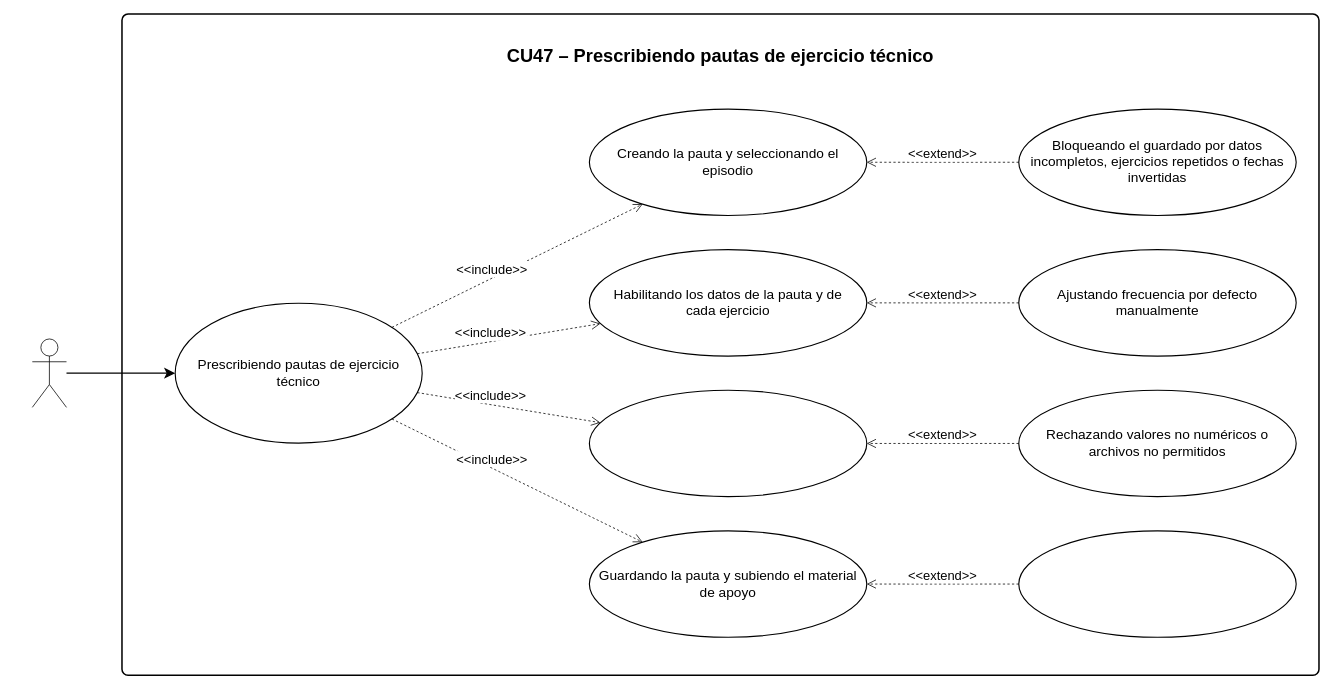
Some shapes in this 1333 by 689 pixel diagram are drawn without their labels. Here are the shapes that lost their labels. From the top down, the centre of each, then its label:
point (49, 372): Profesional
point (727, 443): Definiendo los ejercicios, sus días y la vigencia y adjuntando el material
point (1157, 583): Informando episodio que no corresponde o fallo al subir un archivo
